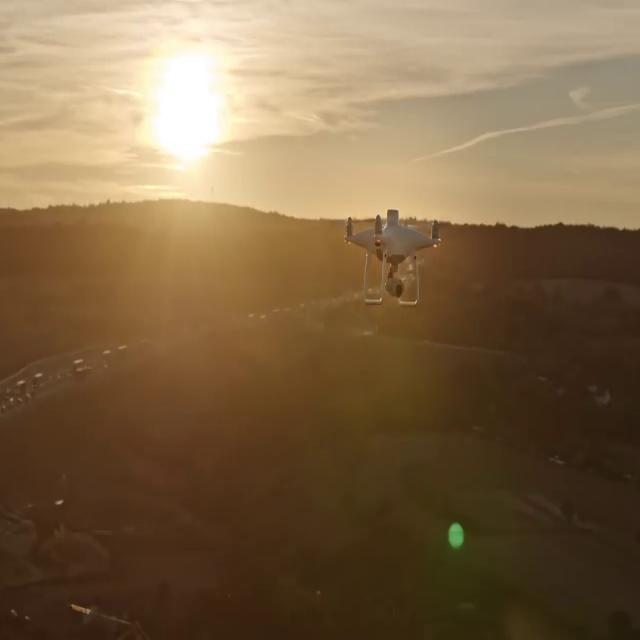drone: (338, 205, 450, 307)
